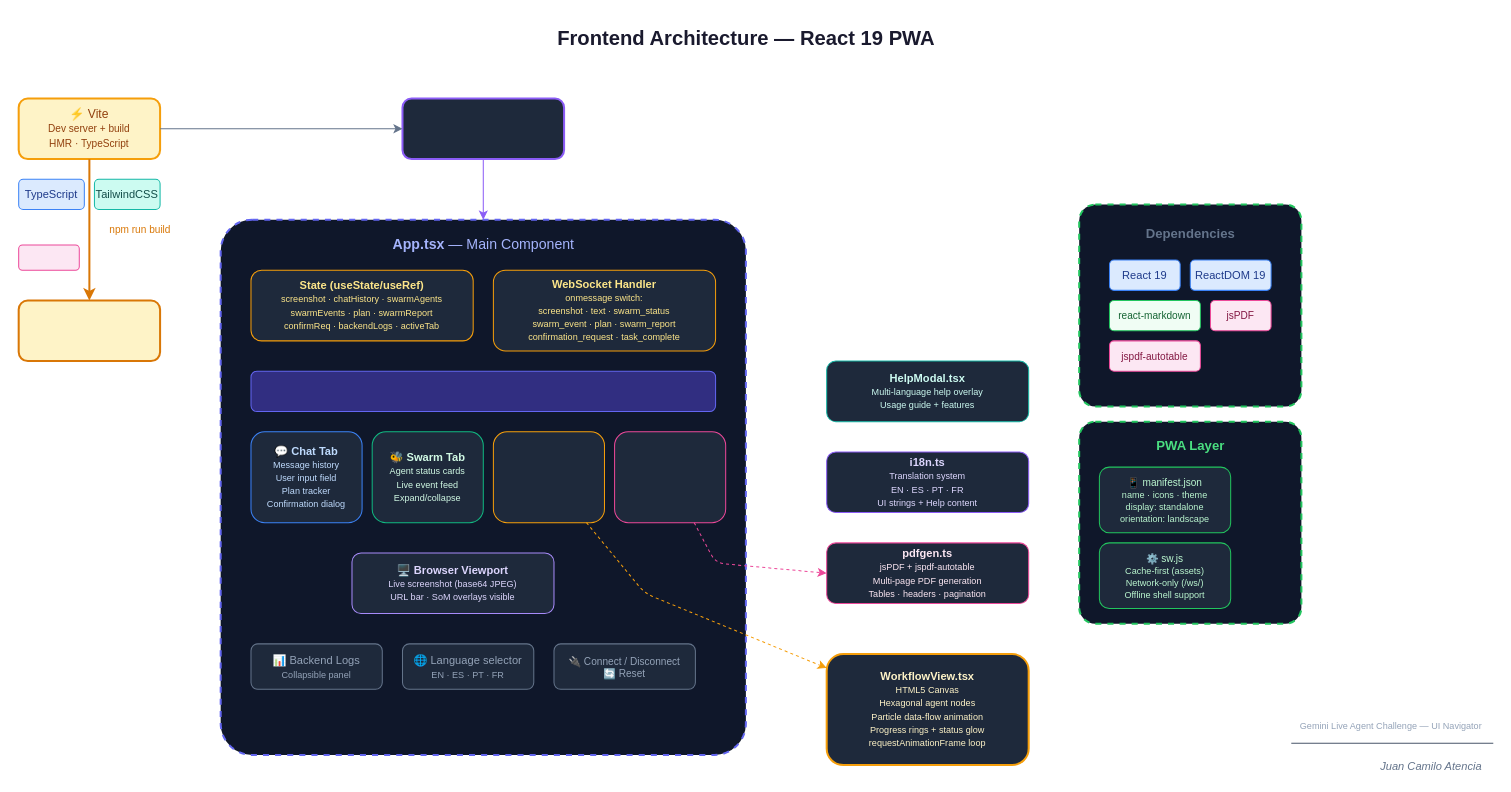
The diagram is 1511 pixels wide and 792 high, and some of its shapes have lost their labels. Here are the shapes that lost their labels. From the top down, the box of each, then its label:
(401, 97, 565, 160): main.tsx React entry point + SW registration
(18, 244, 79, 270): PostCSS
(17, 299, 161, 362): 📦 Build Output → backend/static/ index.html + assets/
(250, 370, 716, 412): Tab Navigation 💬 Chat · 🐝 Swarm · ⚡ Workflow · 📝 Report
(492, 431, 604, 523): ⚡ Workflow Tab → WorkflowView.tsx Canvas hexagons Particle system Animation loop
(614, 431, 726, 523): 📝 Report Tab ReactMarkdown Quality score PDF export button
